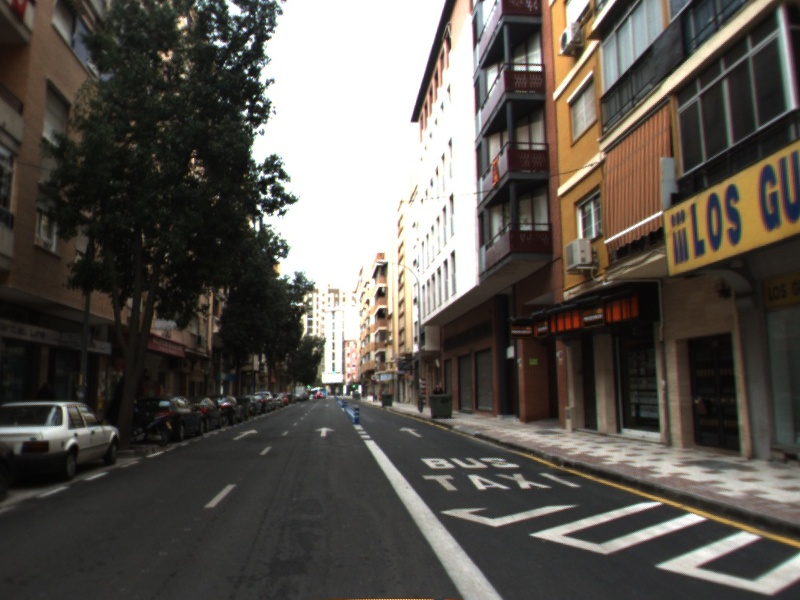STRAIGHT: (231, 428, 259, 442), (398, 425, 425, 439), (312, 424, 337, 439)
